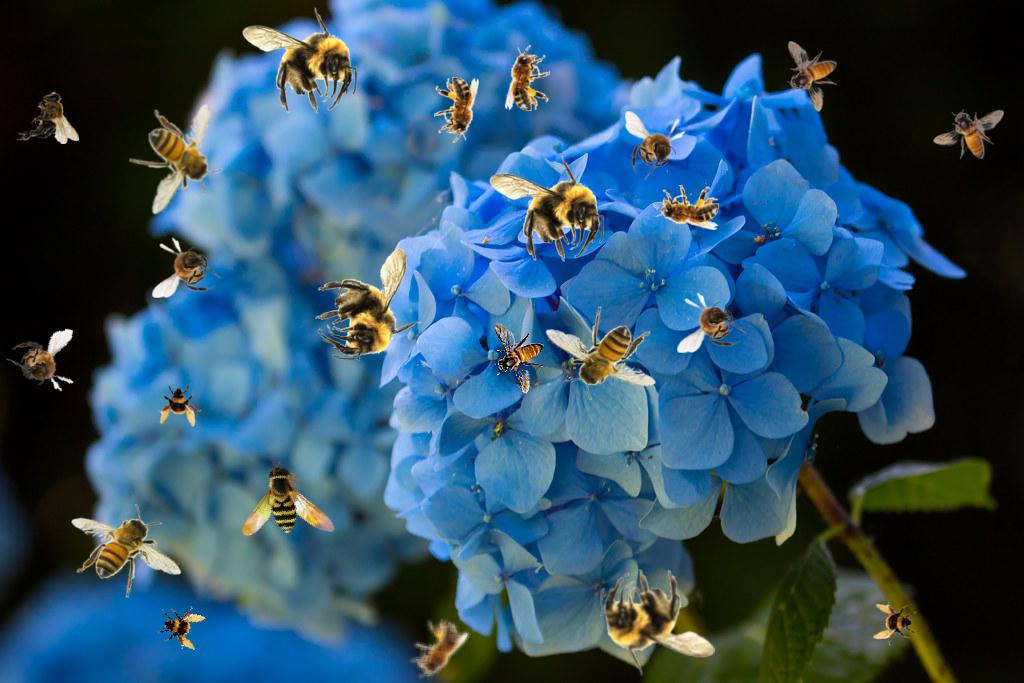Bee: (233, 458, 351, 574), (313, 243, 426, 364), (489, 155, 604, 262), (600, 569, 715, 676), (242, 7, 357, 114), (71, 504, 182, 598), (129, 104, 223, 215), (545, 306, 656, 400), (3, 328, 82, 400), (400, 610, 472, 683), (152, 237, 222, 298), (677, 292, 747, 353), (625, 111, 686, 181), (787, 41, 837, 112), (933, 109, 1004, 159), (494, 323, 544, 394), (17, 91, 79, 144), (505, 45, 550, 111), (434, 77, 479, 143), (653, 185, 719, 230), (154, 599, 208, 653), (873, 602, 917, 646), (158, 383, 202, 427)
